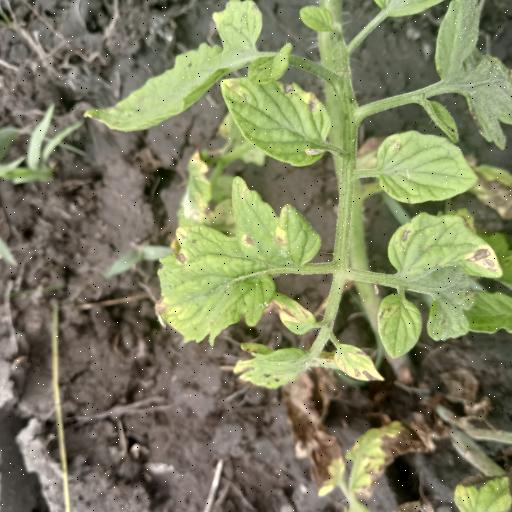Tomato_Brown_Spots: (153, 175, 324, 343), (386, 210, 502, 344), (215, 71, 339, 168), (378, 130, 477, 205)
